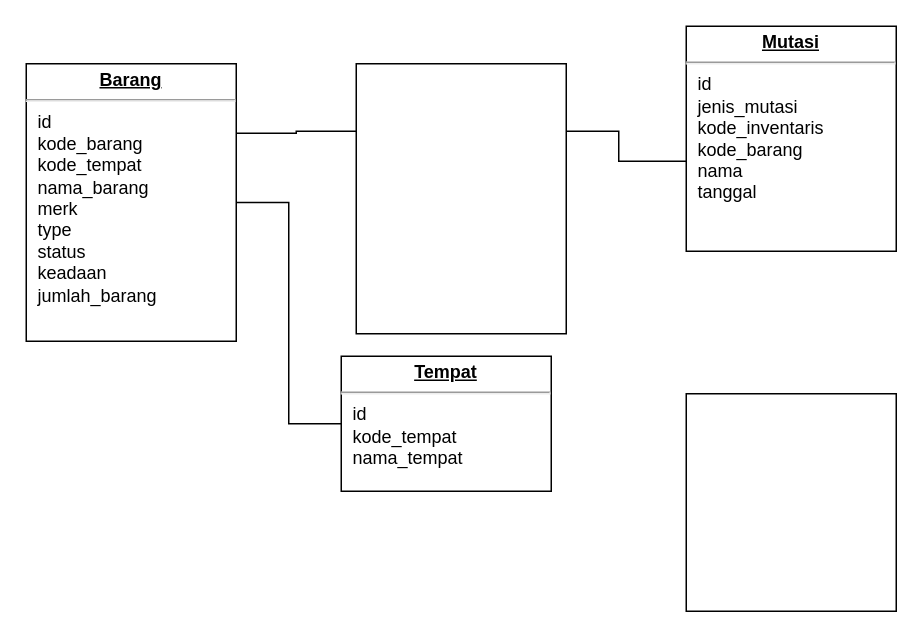
This 923x638 diagram has some shape labels left out. Here are the shapes that lost their labels. From the top down, the centre of each, then its label:
At pixel 460 198: "Inventaris id kode_inventaris jenis_inventaris".
At pixel 790 501: "User id level username nama email password".
